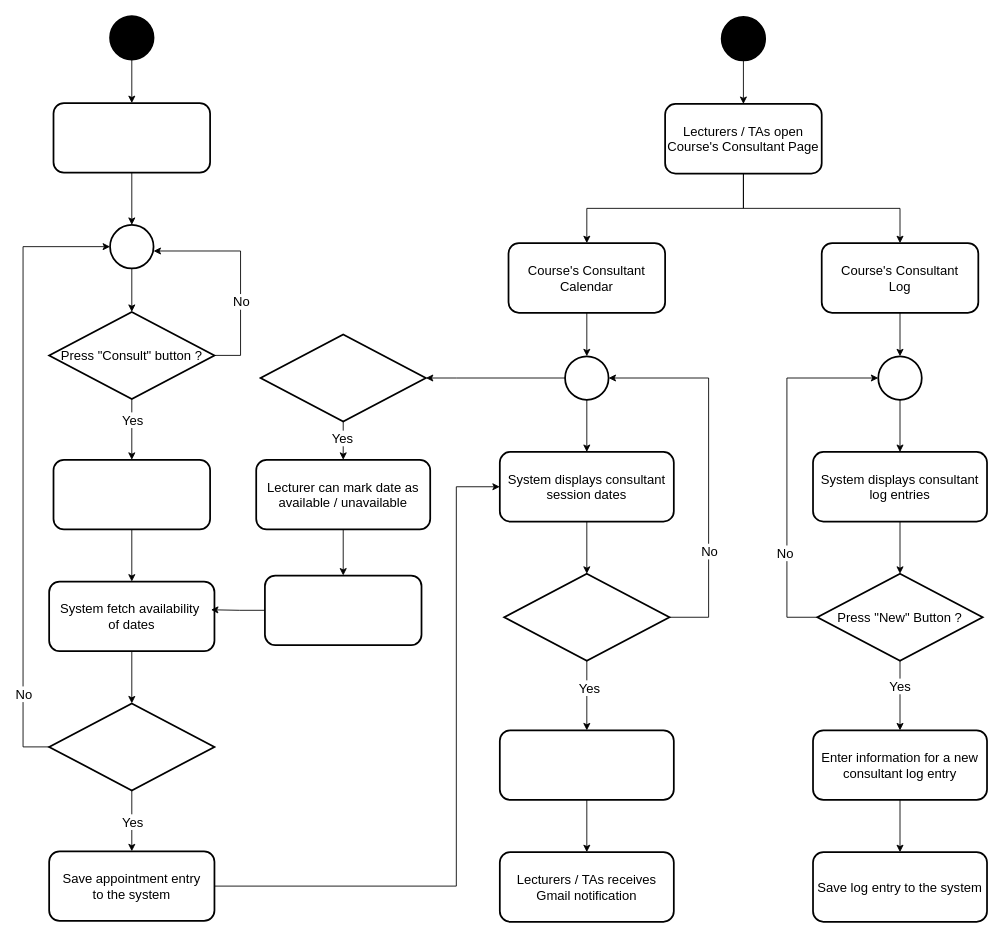
Some shapes in this 1002 by 937 pixel diagram are drawn without their labels. Each missing label, with the centre of its shape:
"Enter information and dates for the appointment" belongs at point (131, 494).
"Is a Lecturer ?" belongs at point (342, 377).
"Is entered date available ?" belongs at point (131, 746).
"Sends Gmail notification" belongs at point (586, 764).
"Students open Student's Main Page" belongs at point (131, 137).
"System save date availability information" belongs at point (343, 610).
"Upcoming Consultant?" belongs at point (586, 616).
